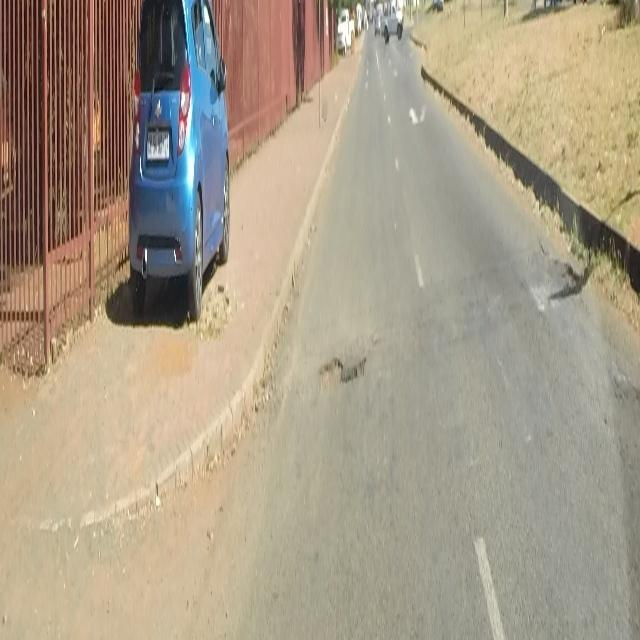pothole: (316, 353, 366, 385), (549, 263, 589, 303)
